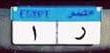1: (30, 23, 39, 42)
raa: (72, 25, 87, 41)
